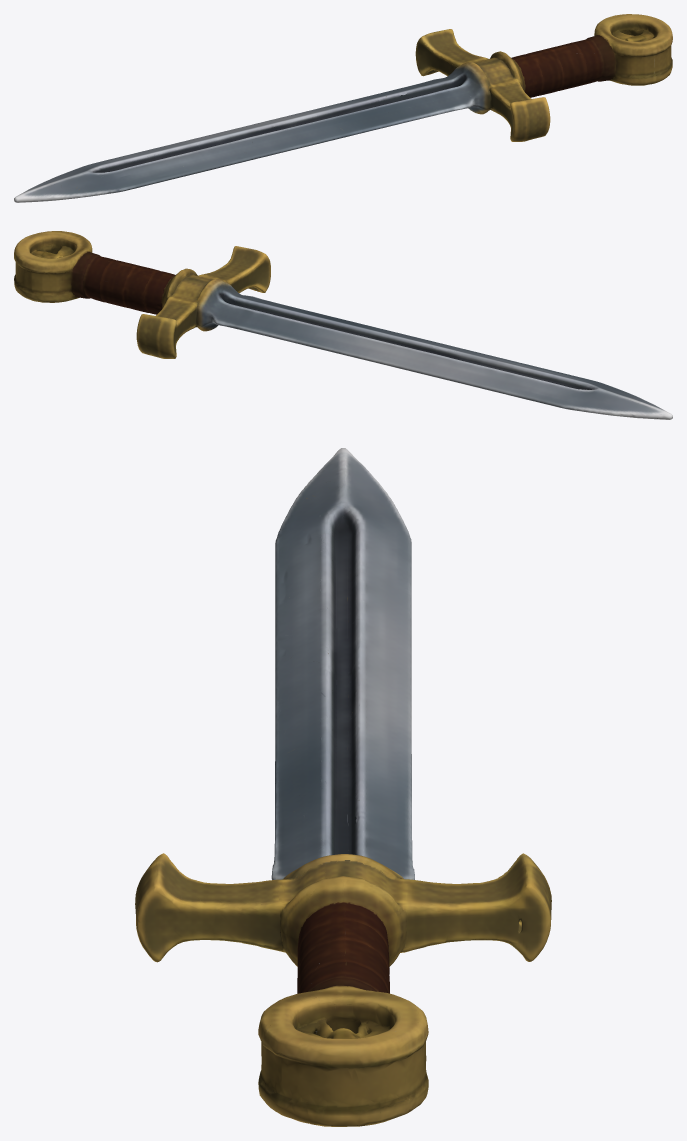
File: knights_longsword.glb
The picture shows the model from 3 angles, top to bottom: view 1: azimuth 30°, elevation 25°; view 2: azimuth 150°, elevation 25°; view 3: azimuth 270°, elevation 25°; orthographic projection. The views are drawn at different scales.
Visible parts, largest first — view 1: world; view 2: world; view 3: world.
Boxes of the visible parts, bbox=[...] form: world: bbox=[14, 14, 672, 202]; world: bbox=[14, 231, 672, 419]; world: bbox=[135, 448, 551, 1126].
Bounding box in the file's own units: 1 × 0.0794 × 0.2778.
1 material, 1 textured.
